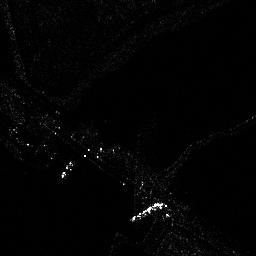ship: (130, 201, 165, 223)
